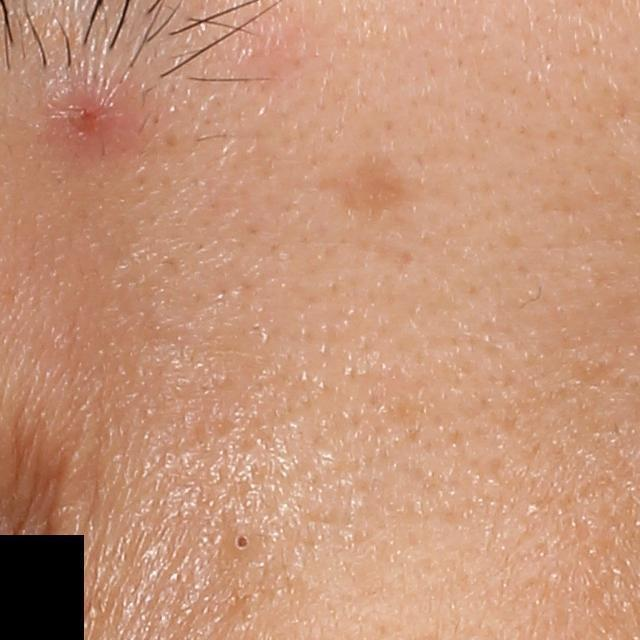comedo: (220, 517, 261, 562)
